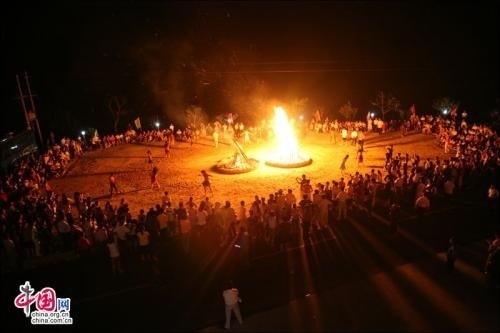fire: (257, 104, 304, 165)
